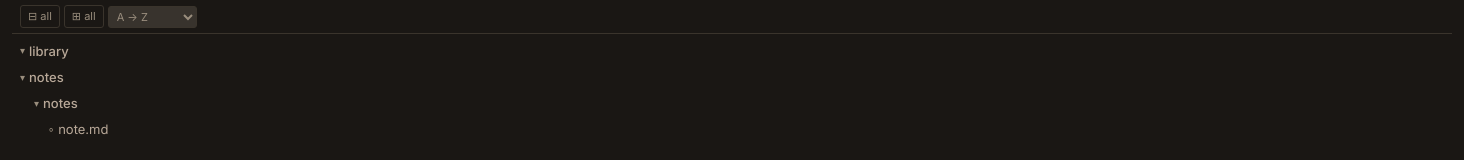
it: FileTree › collapse-all button is clickable
The width and height of the screenshot is (1464, 160).
Check: the button with test id "tree-node-notes" is shown, box [12, 64, 1452, 90]
Click the button titled "Collapse all". click: x=40, y=16
box: [20, 5, 60, 28]
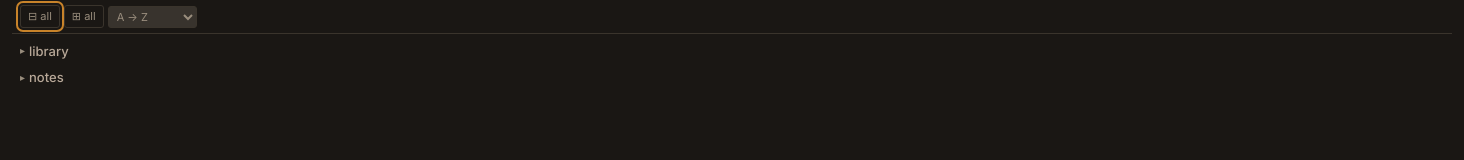
Check: the button with test id "tree-node-notes/notes" is gone
